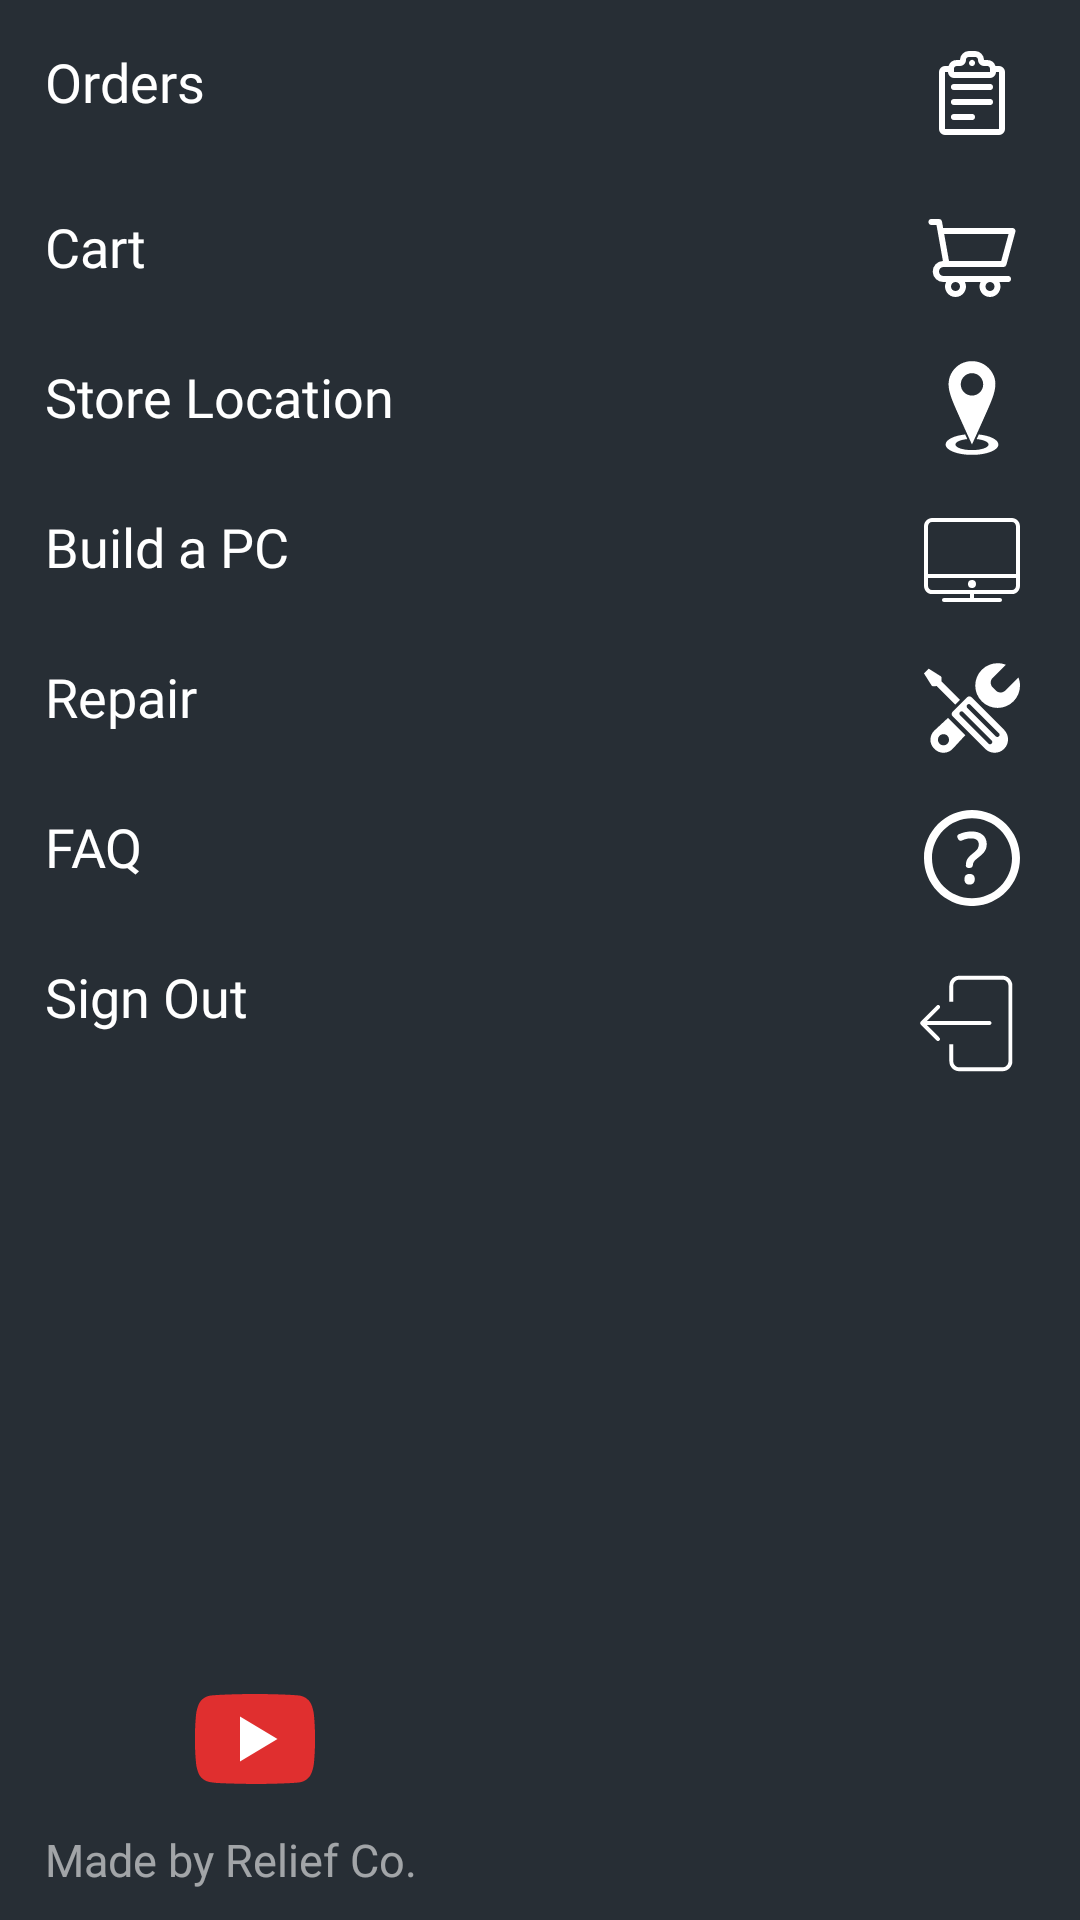

Screen size 1080x1920. Icon name, then its center in pixels as point (x, y):
computer: point (972, 560)
faqs: point (972, 858)
